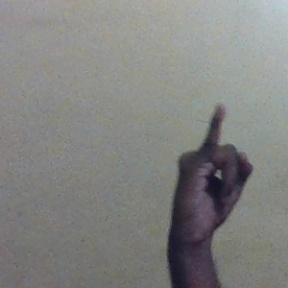I: (170, 100, 258, 237)
